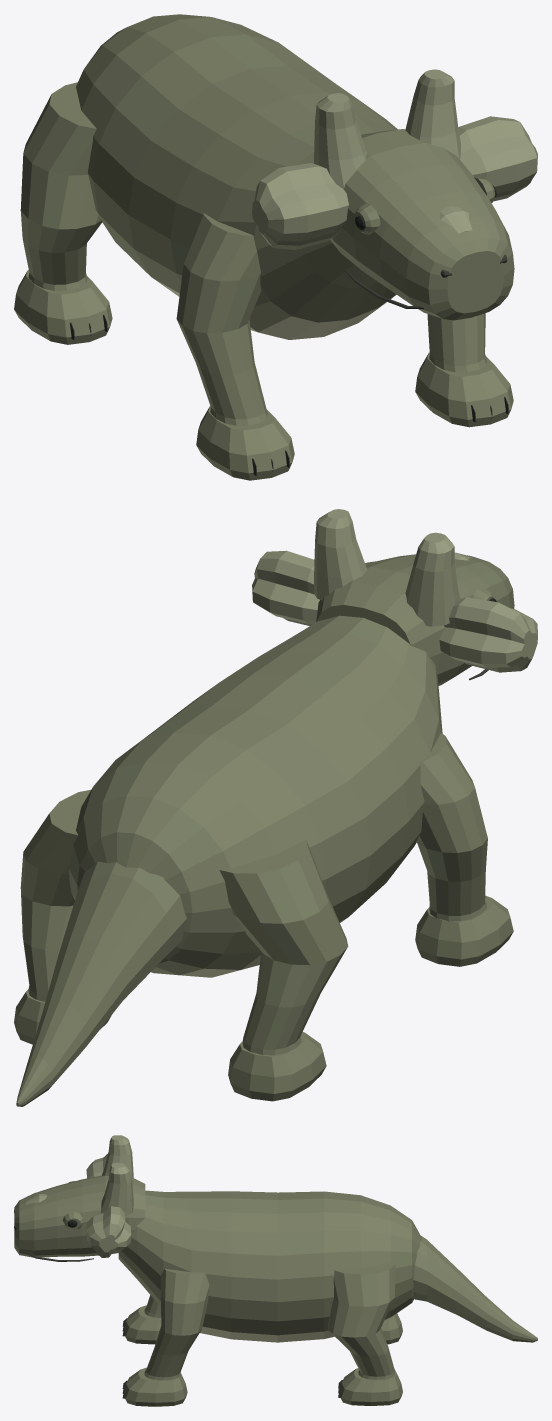
The picture shows the model from 3 angles, top to bottom: view 1: azimuth 30°, elevation 25°; view 2: azimuth 150°, elevation 25°; view 3: azimuth 270°, elevation 25°; orthographic projection. The views are drawn at different scales.
Visible parts, largest first — view 1: barrel-shoulders-thick-neck, deep-head-and-blunt-muzzle, left-fore-jointed-leg, left-hind-jointed-leg, left-compound-cheek-boss, right-fore-broad-foot, left-fore-broad-foot, right-compound-cheek-boss, left-hind-broad-foot, left-short-irregular-crown-stem, right-short-irregular-crown-stem, right-fore-jointed-leg (+1 smaller); view 2: barrel-shoulders-thick-neck, substantial-lowering-tapered-tail, left-hind-jointed-leg, left-fore-jointed-leg, deep-head-and-blunt-muzzle, right-hind-jointed-leg, left-compound-cheek-boss, left-fore-broad-foot, left-hind-broad-foot, right-compound-cheek-boss, left-short-irregular-crown-stem, right-short-irregular-crown-stem (+1 smaller); view 3: barrel-shoulders-thick-neck, deep-head-and-blunt-muzzle, right-hind-jointed-leg, substantial-lowering-tapered-tail, right-fore-jointed-leg, right-fore-broad-foot, right-hind-broad-foot, right-compound-cheek-boss, right-short-irregular-crown-stem, left-fore-broad-foot, left-short-irregular-crown-stem, left-hind-broad-foot.
Part boxes in pixels (x1=…): barrel-shoulders-thick-neck: x1=76, y1=14, x2=397, y2=339; deep-head-and-blunt-muzzle: x1=330, y1=129, x2=514, y2=320; left-fore-jointed-leg: x1=176, y1=213, x2=267, y2=425; left-hind-jointed-leg: x1=20, y1=82, x2=102, y2=290; left-compound-cheek-boss: x1=252, y1=163, x2=348, y2=249; right-fore-broad-foot: x1=415, y1=352, x2=513, y2=427; left-fore-broad-foot: x1=196, y1=406, x2=294, y2=480; right-compound-cheek-boss: x1=458, y1=116, x2=537, y2=201; left-hind-broad-foot: x1=14, y1=270, x2=112, y2=344; left-short-irregular-crown-stem: x1=314, y1=93, x2=367, y2=188; right-short-irregular-crown-stem: x1=405, y1=69, x2=460, y2=159; right-fore-jointed-leg: x1=427, y1=313, x2=486, y2=372; barrel-shoulders-thick-neck: x1=69, y1=615, x2=442, y2=977; substantial-lowering-tapered-tail: x1=16, y1=861, x2=186, y2=1106; left-hind-jointed-leg: x1=219, y1=840, x2=348, y2=1055; left-fore-jointed-leg: x1=416, y1=733, x2=487, y2=921; deep-head-and-blunt-muzzle: x1=316, y1=554, x2=514, y2=685; right-hind-jointed-leg: x1=20, y1=789, x2=90, y2=1001; left-compound-cheek-boss: x1=439, y1=597, x2=537, y2=672; left-fore-broad-foot: x1=415, y1=895, x2=513, y2=966; left-hind-broad-foot: x1=228, y1=1032, x2=326, y2=1101; right-compound-cheek-boss: x1=252, y1=550, x2=319, y2=625; left-short-irregular-crown-stem: x1=405, y1=532, x2=460, y2=626; right-short-irregular-crown-stem: x1=313, y1=509, x2=367, y2=600; barrel-shoulders-thick-neck: x1=118, y1=1190, x2=421, y2=1342; deep-head-and-blunt-muzzle: x1=14, y1=1175, x2=145, y2=1257; right-hind-jointed-leg: x1=328, y1=1260, x2=395, y2=1379; substantial-lowering-tapered-tail: x1=413, y1=1236, x2=537, y2=1342; right-fore-jointed-leg: x1=144, y1=1268, x2=209, y2=1380; right-fore-broad-foot: x1=122, y1=1367, x2=187, y2=1406; right-hind-broad-foot: x1=338, y1=1368, x2=402, y2=1405; right-compound-cheek-boss: x1=86, y1=1206, x2=131, y2=1257; right-short-irregular-crown-stem: x1=100, y1=1162, x2=133, y2=1215; left-fore-broad-foot: x1=122, y1=1305, x2=161, y2=1344; left-short-irregular-crown-stem: x1=102, y1=1135, x2=133, y2=1177; left-hind-broad-foot: x1=381, y1=1313, x2=402, y2=1344.
Size of the model in its own units: 1.27 by 1.43 by 3.16.
